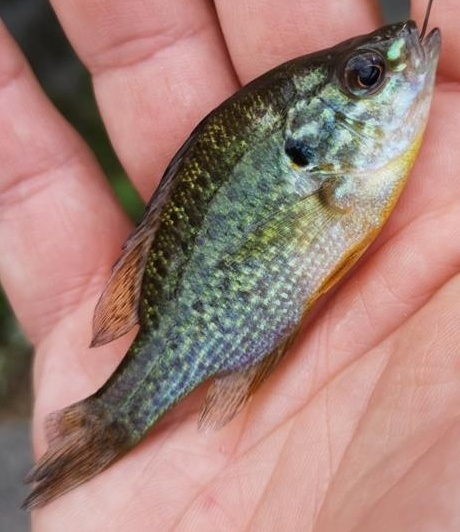Lepomis gibbosus: (20, 20, 440, 512)
